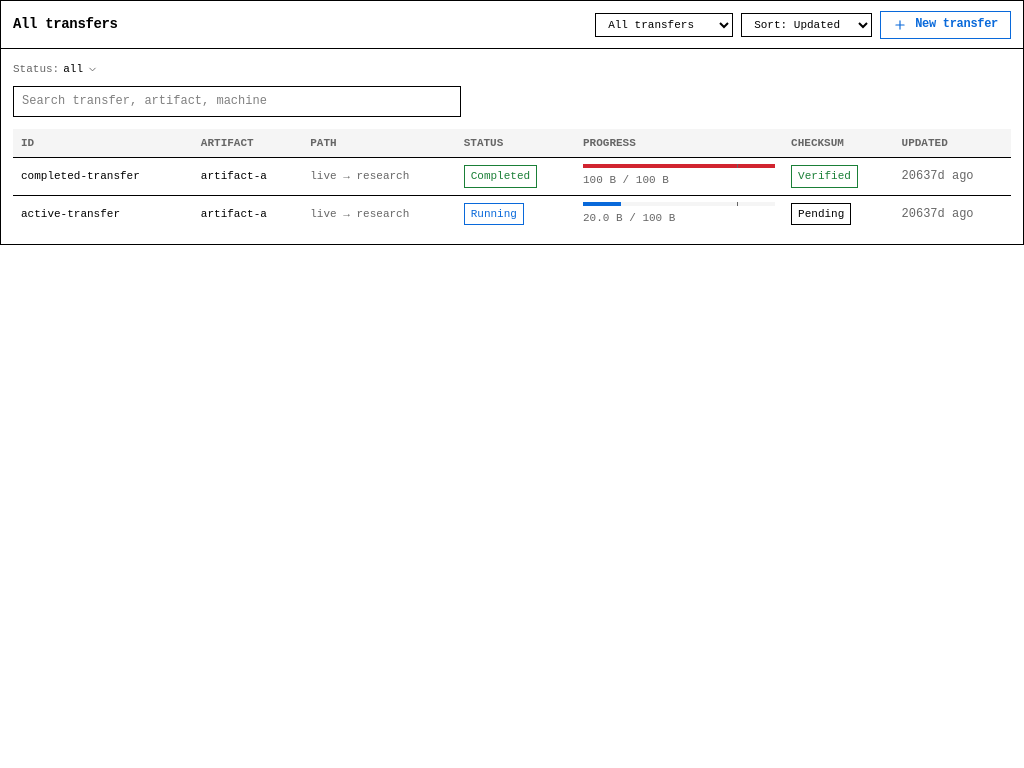
Test case: ResearchTransfersPage › blocks non-research transfer destinations before submit
Click the button "New transfer".
click(946, 24)  # box [880,10,1011,38]
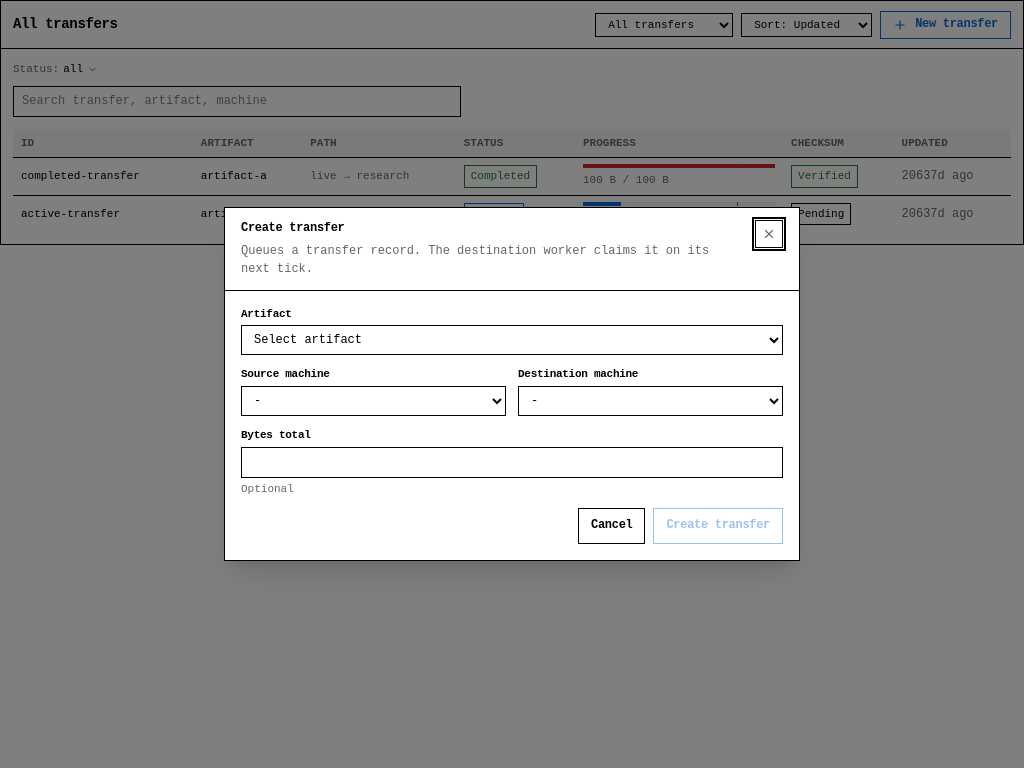
Result: the dialog is shown at [224,208,800,560]
Select "artifact-a" in the dropdown labelled "Artifact" at [512, 340], box [241,325,783,355]
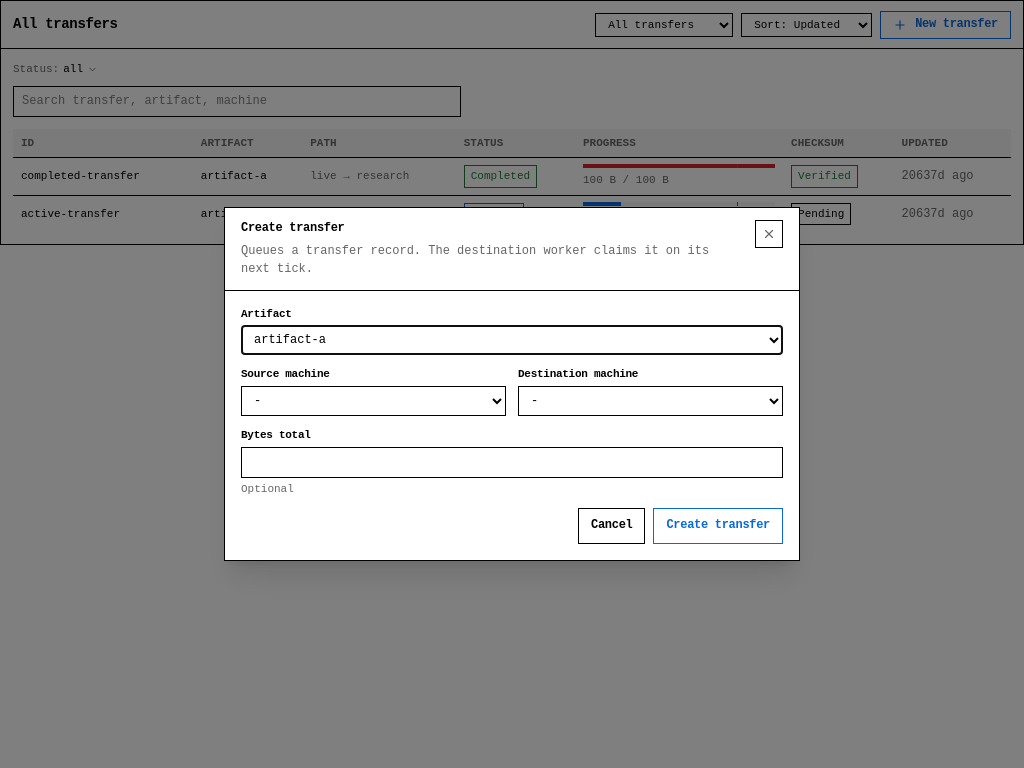
Select "live" in the dropdown labelled "Source machine" at [374, 401], box [241,386,506,416]
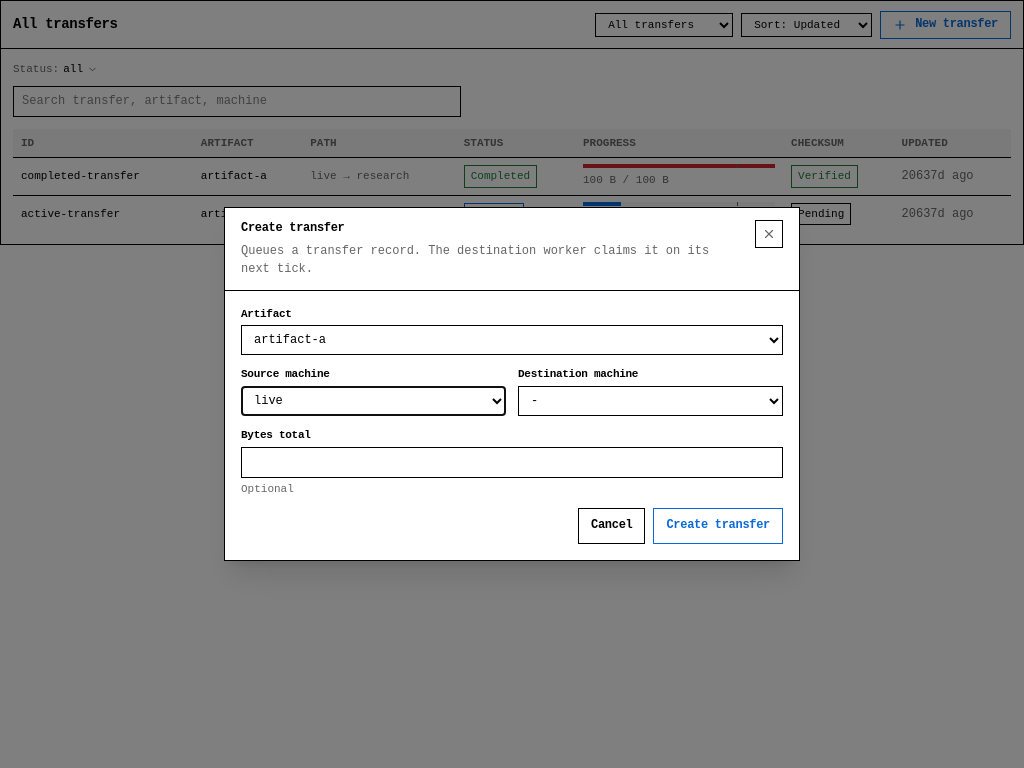
Select "live" in the dropdown labelled "Destination machine" at [650, 401], box [518,386,783,416]
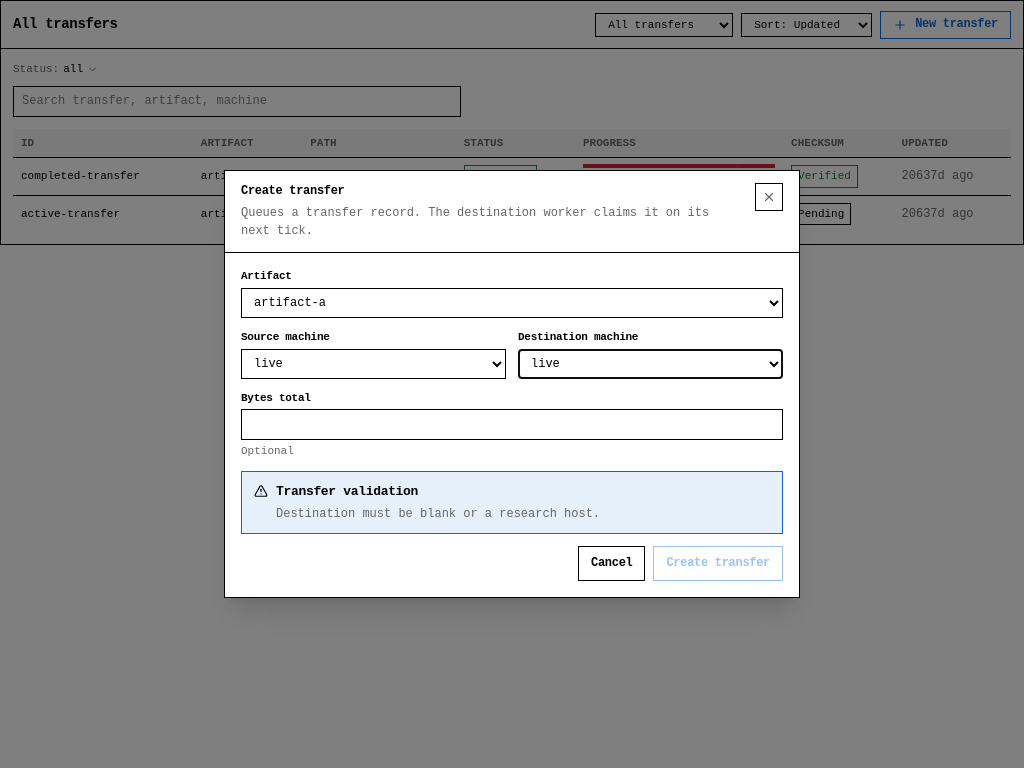
Result: the text "Destination must be blank or a research host." is shown at [276,507,600,521]
Result: the button "Create transfer" is disabled at [654,546,783,581]
Select "research" in the dropdown labelled "Destination machine" at [650, 364], box [518,349,783,379]
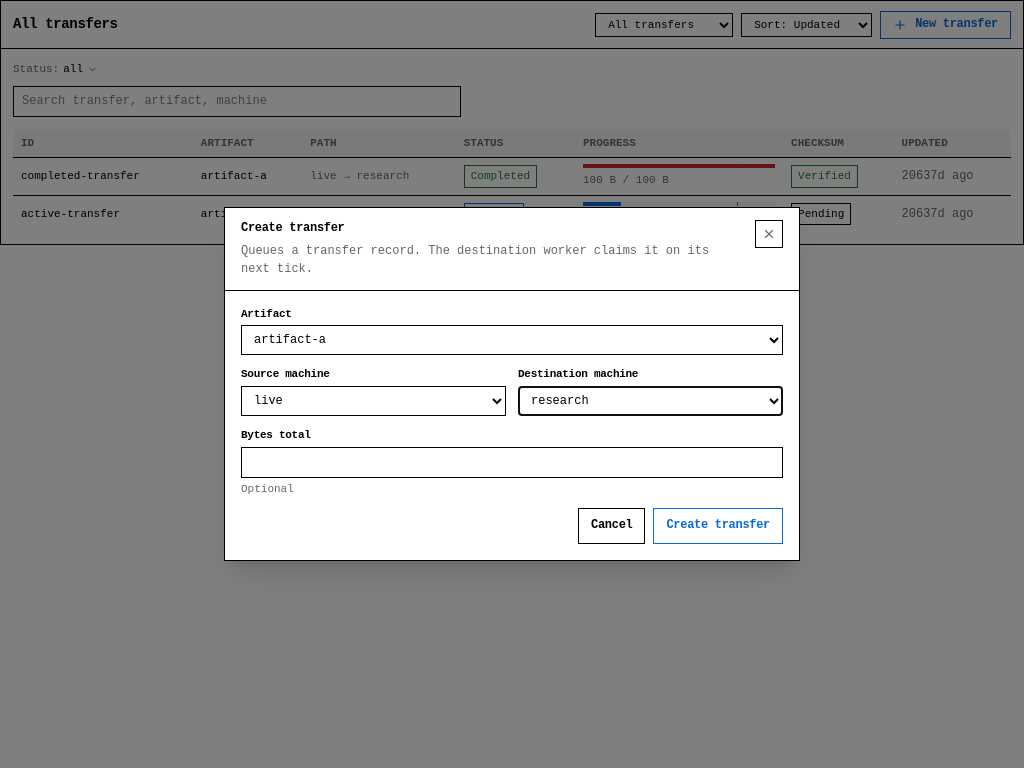
Result: the text "Destination must be blank or a research host." is gone
Result: the button "Create transfer" is enabled at [654,508,783,544]
